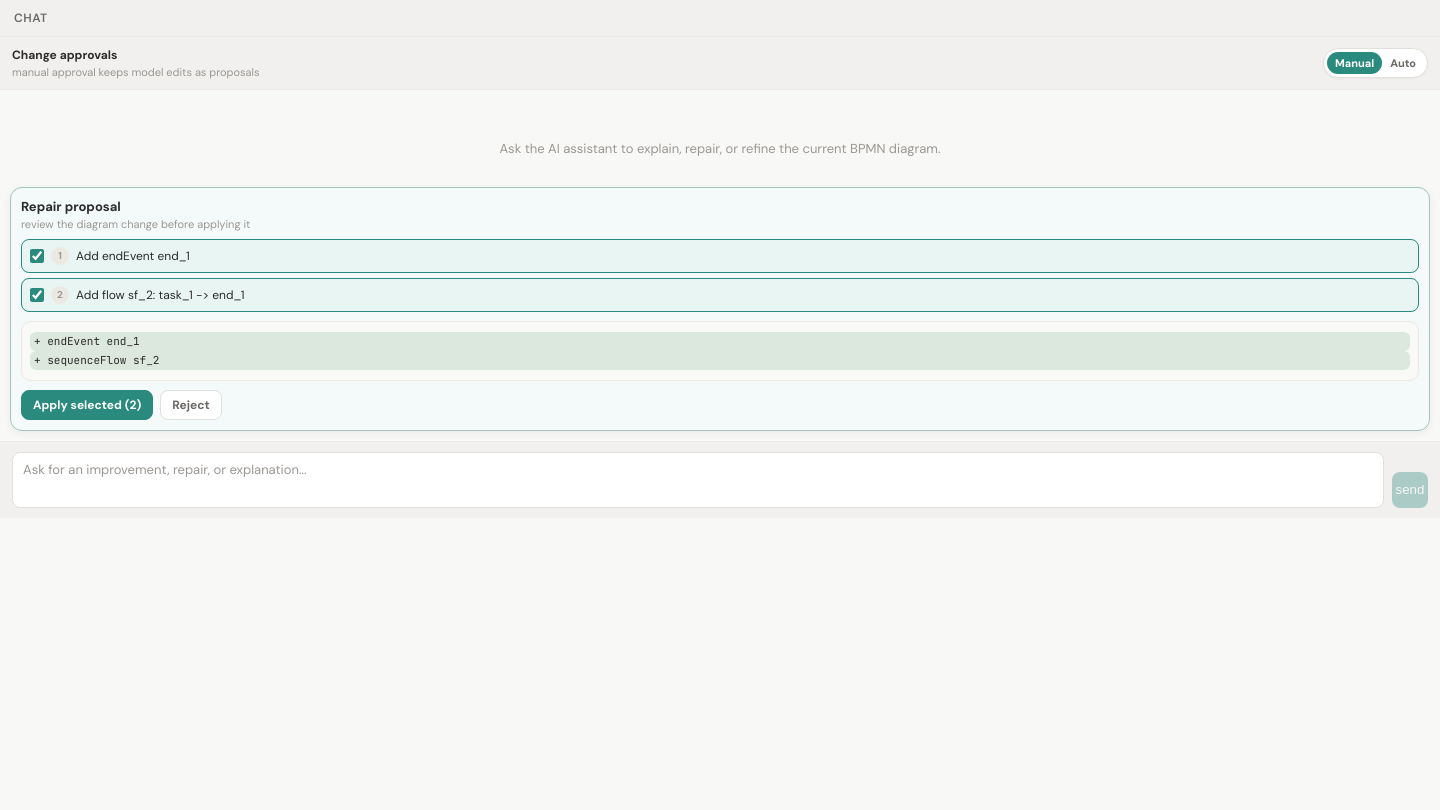
subset acceptance › can pull in the operations a selection requires
Click the checkbox labelled "1 Add endEvent end_1": (37, 256) [30, 249, 44, 263]
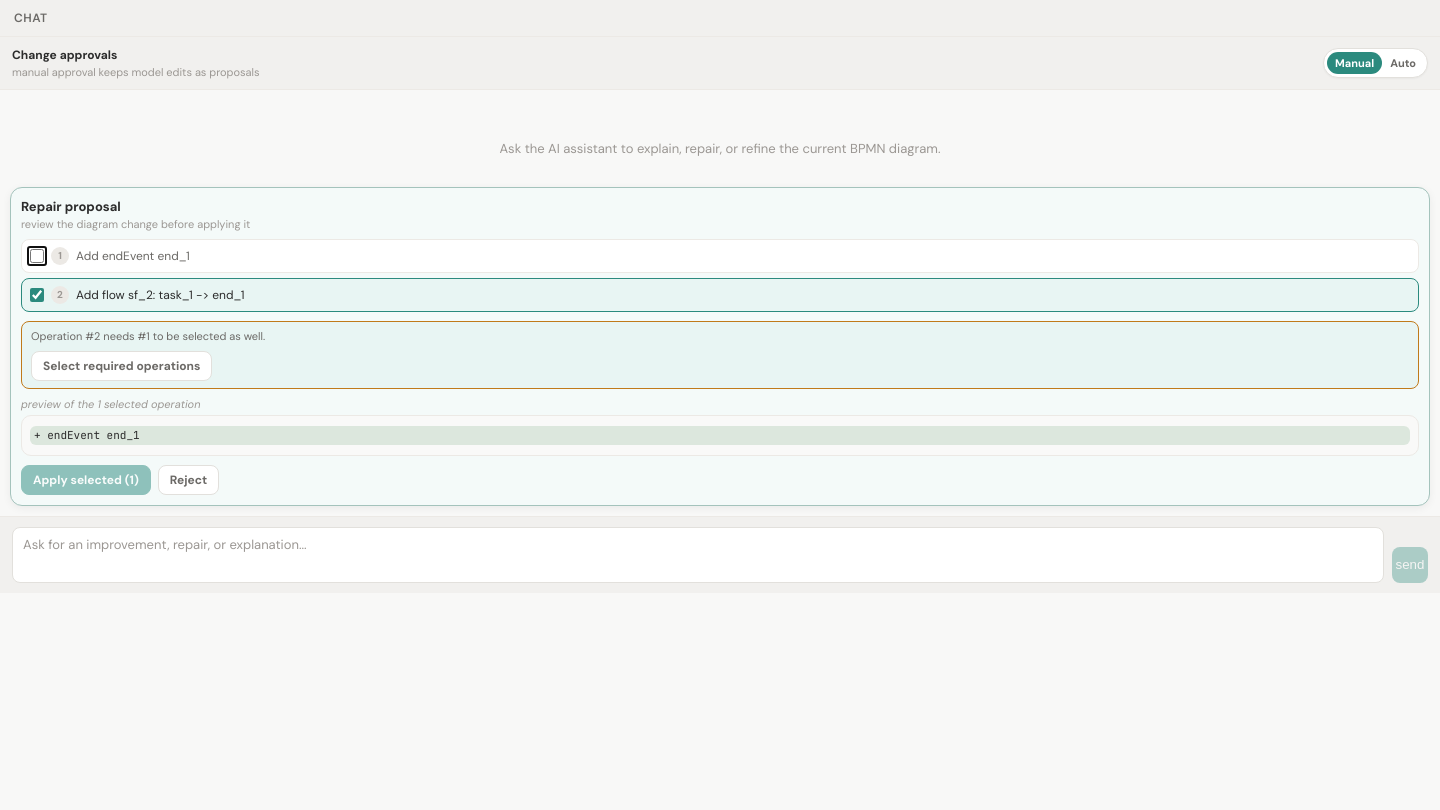
Click the button "Select required operations": (122, 366) [31, 351, 212, 381]
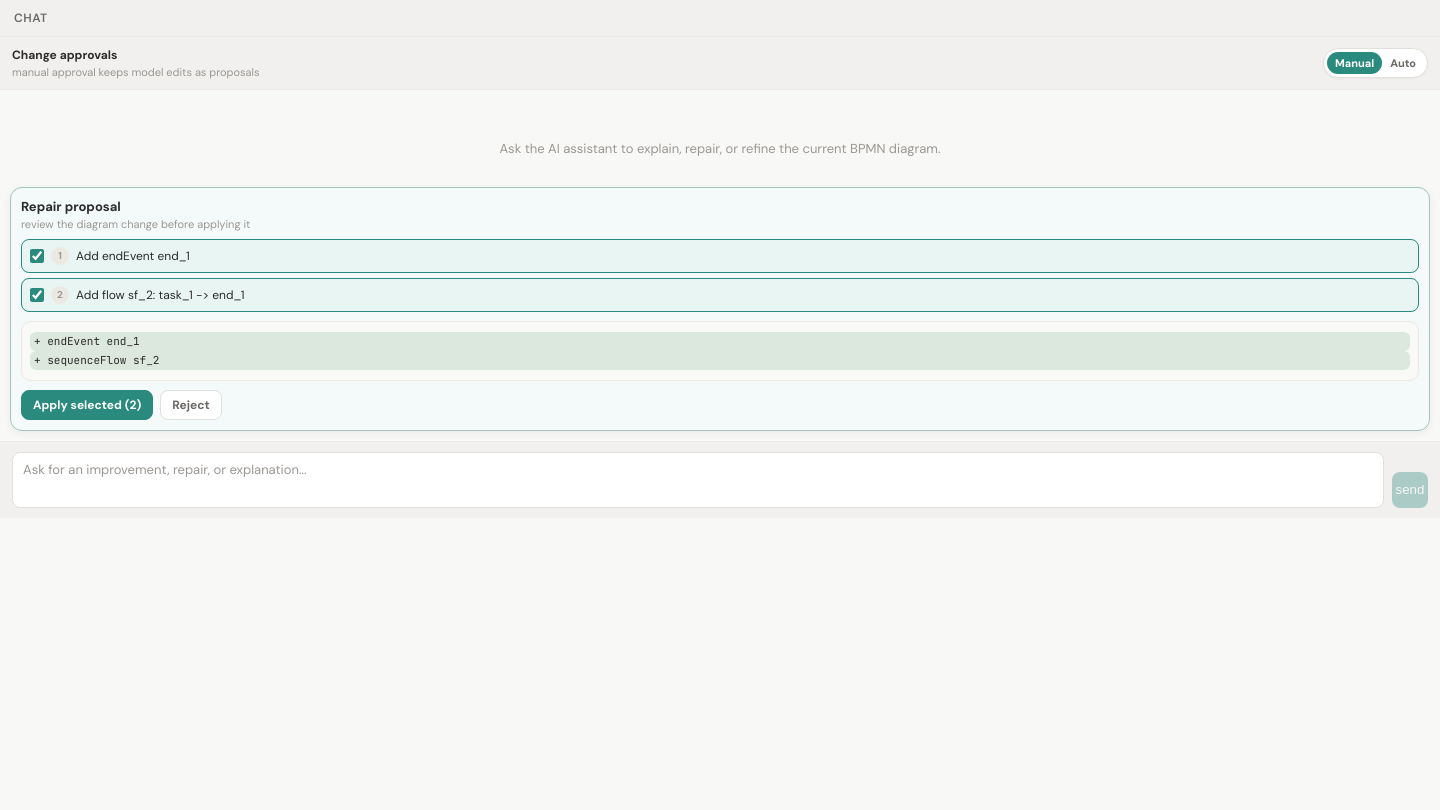
Expected: the checkbox labelled "2 Add flow sf_2: task_1 -> end_1" is checked, [30, 288, 44, 302]
Expected: the checkbox labelled "1 Add endEvent end_1" is checked, [30, 249, 44, 263]
Expected: the button "Apply selected (2)" is enabled, [21, 390, 153, 420]
